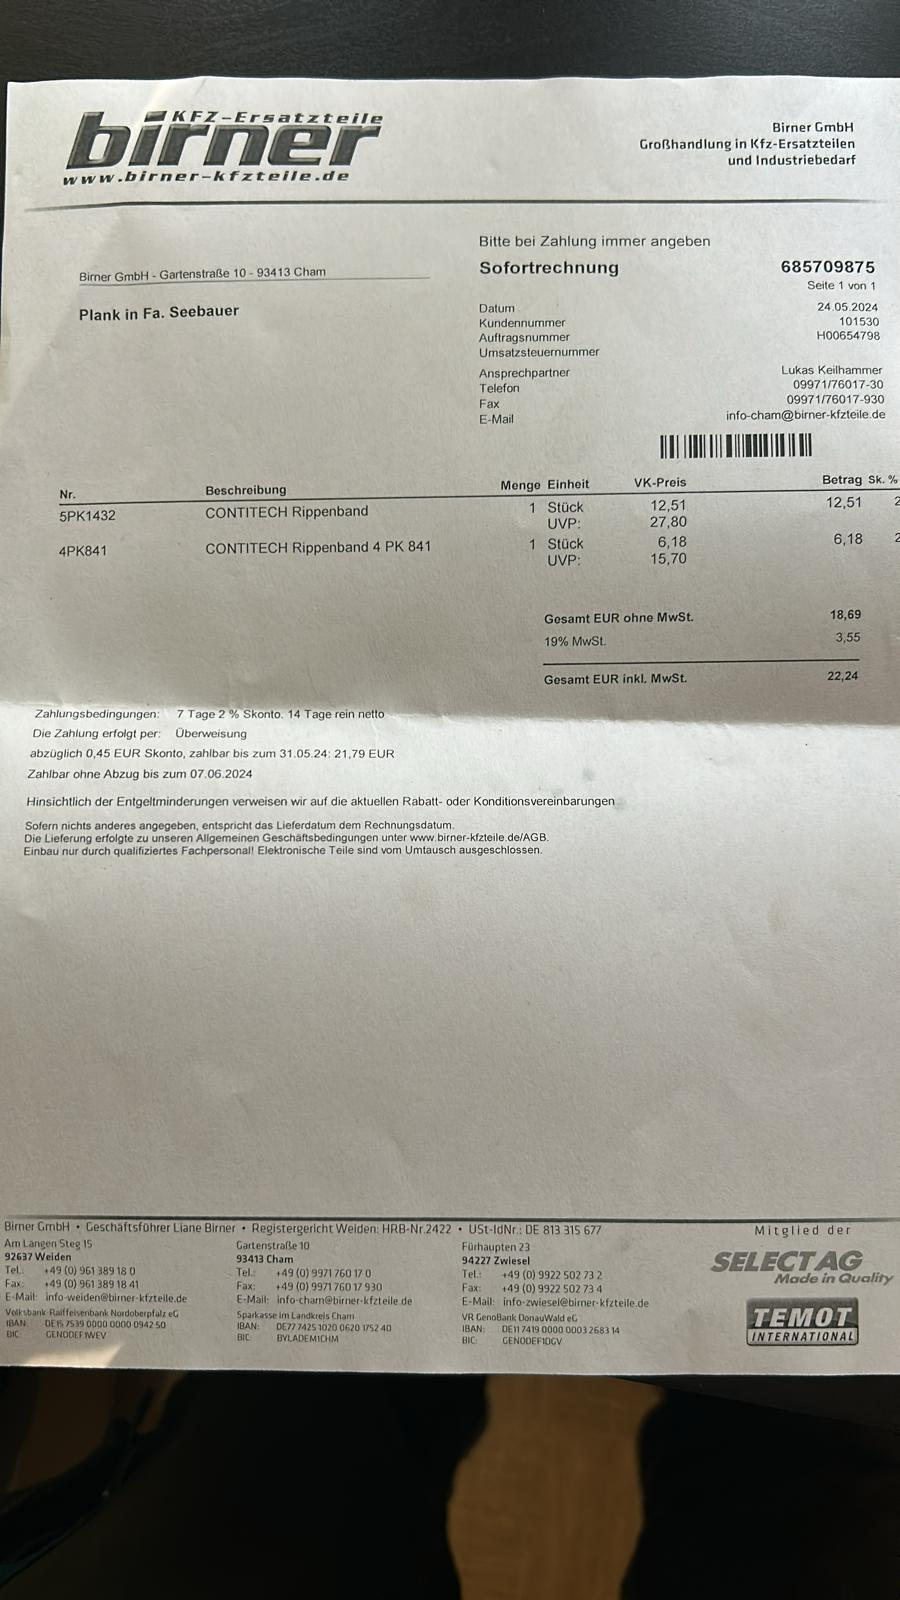table: (56, 482, 870, 576)
total-price: (820, 658, 865, 690)
